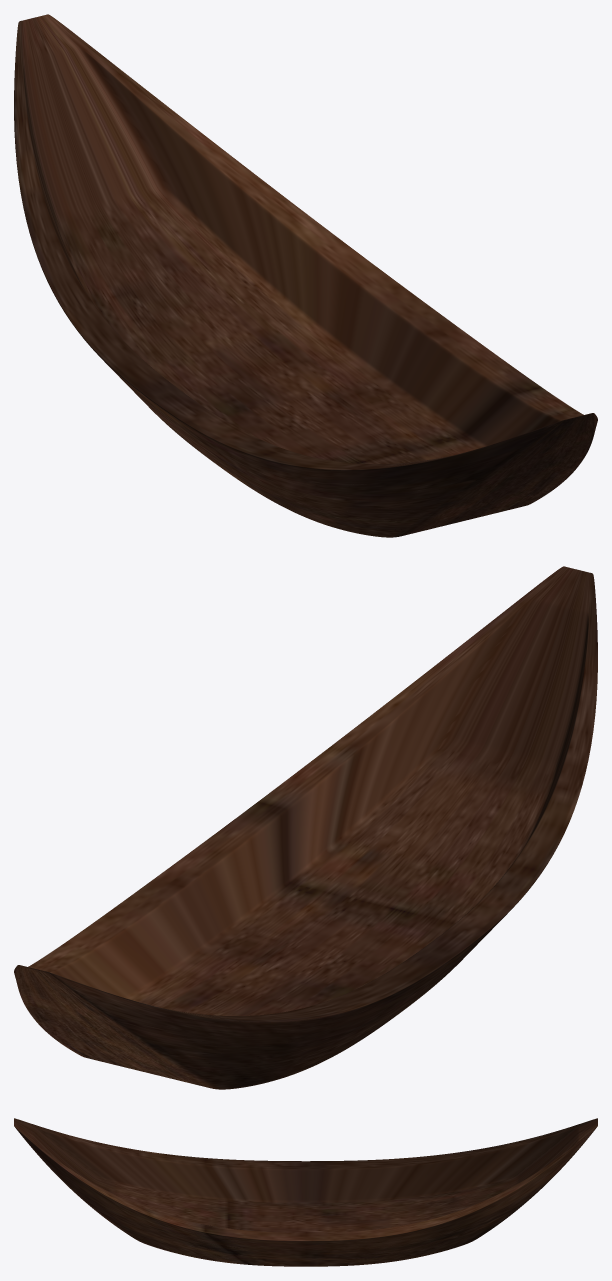
The model's file is barco_mundau.obj.
3 renders of one model, top to bottom at view 1: azimuth 30°, elevation 25°; view 2: azimuth 150°, elevation 25°; view 3: azimuth 270°, elevation 25°, orthographic. The views are drawn at different scales.
Visible parts, largest first — view 1: Cube; view 2: Cube; view 3: Cube.
Part boxes in pixels (bbox=[...]): Cube: bbox=[14, 14, 597, 537]; Cube: bbox=[14, 566, 597, 1089]; Cube: bbox=[14, 1118, 597, 1266].
Size of the model in its own units: 3.49 by 2.5 by 10.81.
1 material, 1 textured.
